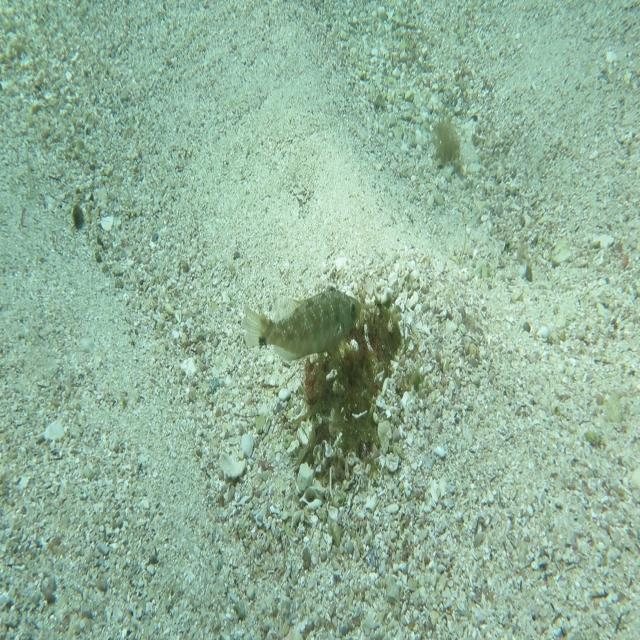FAN: (240, 282, 363, 366)
core_nest: (354, 316, 394, 355)
nest: (287, 278, 416, 491)
vegetation: (431, 116, 464, 169), (71, 203, 85, 230)
